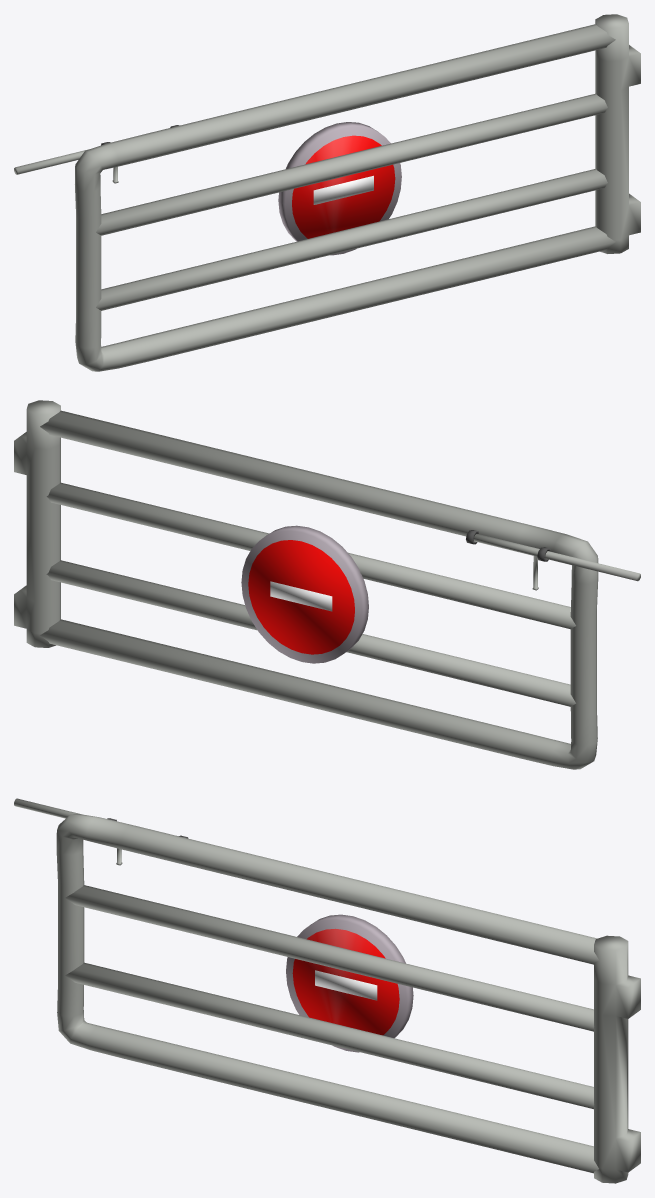
The picture shows the model from 3 angles, top to bottom: view 1: azimuth 30°, elevation 25°; view 2: azimuth 150°, elevation 25°; view 3: azimuth 330°, elevation 25°; orthographic projection. The views are drawn at different scales.
Visible parts, largest first — view 1: Circle; view 2: Circle; view 3: Circle.
Part boxes in pixels (bbox=[...]): Circle: bbox=[14, 14, 640, 371]; Circle: bbox=[14, 400, 640, 769]; Circle: bbox=[14, 798, 640, 1183].
Size of the model in its own units: 193 by 68.26 by 12.32.
